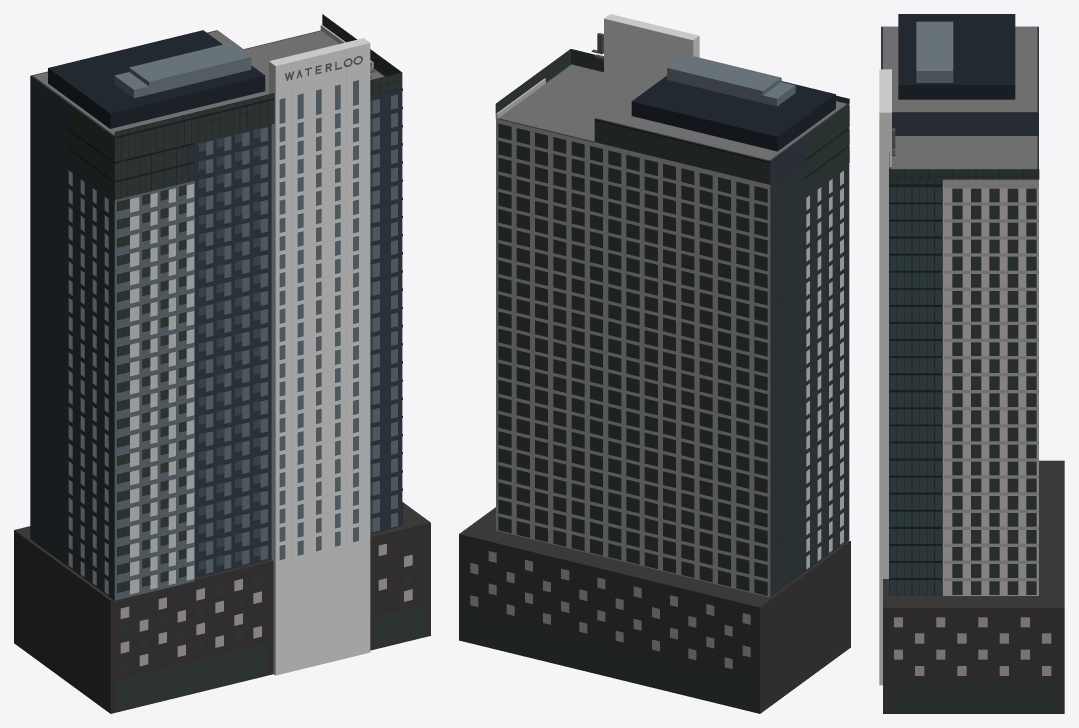
File: waterloo-look.glb
3 views of the same model, side by side, from view 1: azimuth 30°, elevation 25°; view 2: azimuth 150°, elevation 25°; view 3: azimuth 270°, elevation 25° (orthographic). The views are drawn at different scales.
Parts seen in each view (by area): view 1: n_white, n_charcoal, n_midgrey, n_glass, n_brick, n_white_panel, n_black, n_glass_b, n_duct, n_roof, n_white_joint, n_podium_panel (+2 smaller); view 2: n_glass, n_south_greige, n_brick, n_charcoal, n_black, n_roof, n_white_panel, n_white, n_duct, n_podium_panel, n_glass_rail_c; view 3: n_glass, n_glass_south, n_brick, n_south_white, n_black, n_south_greige, n_roof, n_white, n_charcoal, n_duct, n_glass_rail_c, n_podium_panel.
Part boxes in pixels (<box>): n_white: <box>269,38,370,675</box>; n_charcoal: <box>30,30,401,600</box>; n_midgrey: <box>114,80,397,600</box>; n_glass: <box>33,100,425,710</box>; n_brick: <box>14,502,430,713</box>; n_white_panel: <box>68,170,194,594</box>; n_black: <box>31,14,402,592</box>; n_glass_b: <box>198,100,372,570</box>; n_duct: <box>114,42,251,98</box>; n_roof: <box>33,30,383,135</box>; n_white_joint: <box>276,49,370,558</box>; n_podium_panel: <box>120,543,412,666</box>; n_glass: <box>464,105,849,710</box>; n_south_greige: <box>495,114,770,597</box>; n_brick: <box>459,507,850,713</box>; n_charcoal: <box>498,64,849,596</box>; n_black: <box>496,49,849,178</box>; n_roof: <box>498,64,846,160</box>; n_white_panel: <box>806,170,843,569</box>; n_white: <box>604,14,699,82</box>; n_duct: <box>667,54,795,106</box>; n_podium_panel: <box>470,551,750,668</box>; n_glass_rail_c: <box>495,49,603,113</box>; n_glass: <box>889,188,1058,712</box>; n_glass_south: <box>889,187,941,595</box>; n_brick: <box>883,460,1064,713</box>; n_south_white: <box>942,185,1038,595</box>; n_black: <box>889,14,1039,595</box>; n_south_greige: <box>942,179,1038,581</box>; n_roof: <box>883,27,1037,169</box>; n_white: <box>879,69,891,685</box>; n_charcoal: <box>881,26,1038,169</box>; n_duct: <box>916,21,953,82</box>; n_glass_rail_c: <box>889,153,1038,184</box>; n_podium_panel: <box>894,617,1051,675</box>.
Bounding box in the file's own units: 56.27 × 102 × 30.04.
